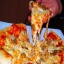pizza: (1, 19, 57, 63)
